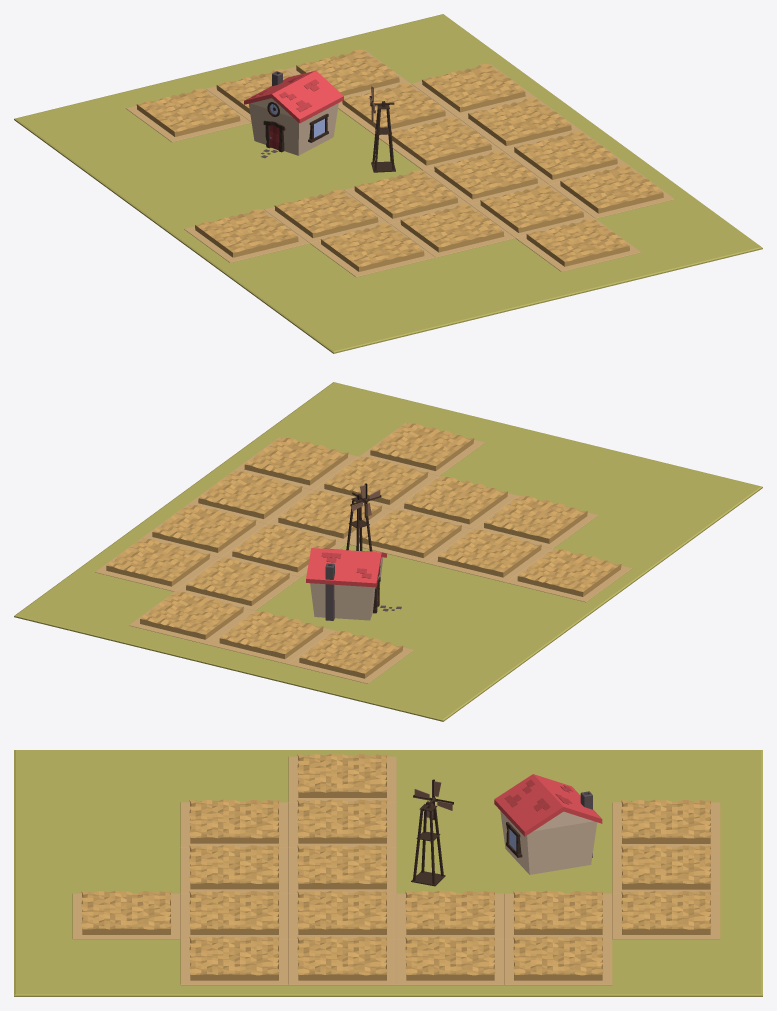
The model's file is Sunshield_Farm.glb.
The picture shows the model from 3 angles, top to bottom: view 1: azimuth 30°, elevation 25°; view 2: azimuth 150°, elevation 25°; view 3: azimuth 270°, elevation 25°; orthographic projection. The views are drawn at different scales.
Visible parts, largest first — view 1: Grass Base, Wheat Field, Wheat Field.001, Wheat Field.003, House, Wheat Field.002, Windmill; view 2: Grass Base, Wheat Field, Wheat Field.001, Wheat Field.003, Wheat Field.002, House, Windmill; view 3: Grass Base, Wheat Field, Wheat Field.001, Wheat Field.003, Wheat Field.002, House, Windmill.
Boxes of the visible parts, box(x1,y1,x2,y2) form: Grass Base: box(14, 14, 762, 353); Wheat Field: box(344, 131, 674, 271); Wheat Field.001: box(286, 49, 582, 170); Wheat Field.003: box(184, 189, 435, 277); House: box(244, 70, 343, 158); Wheat Field.002: box(126, 69, 293, 142); Windmill: box(369, 85, 395, 172); Grass Base: box(14, 382, 762, 721); Wheat Field: box(187, 423, 518, 563); Wheat Field.001: box(95, 504, 346, 644); Wheat Field.003: box(426, 495, 631, 602); Wheat Field.002: box(208, 611, 413, 683); House: box(306, 548, 401, 620); Windmill: box(346, 483, 381, 551); Grass Base: box(14, 750, 762, 996); Wheat Field: box(72, 845, 396, 985); Wheat Field.001: box(396, 890, 720, 985); Wheat Field.003: box(180, 753, 396, 847); Wheat Field.002: box(612, 799, 720, 893); House: box(494, 774, 602, 874); Windmill: box(411, 779, 453, 886).
Bounding box in the file's own units: 48.42 × 8.83 × 62.42.
